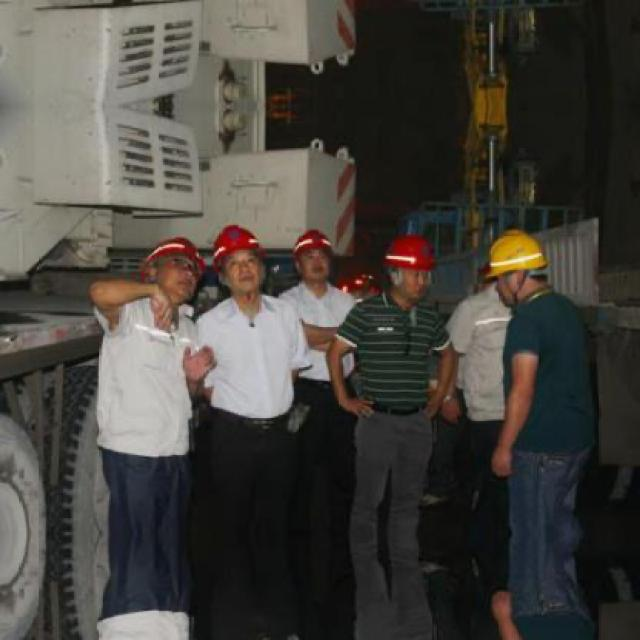con casco: (135, 230, 245, 319), (204, 215, 289, 320), (376, 226, 458, 295), (496, 238, 570, 306), (281, 220, 343, 296)
